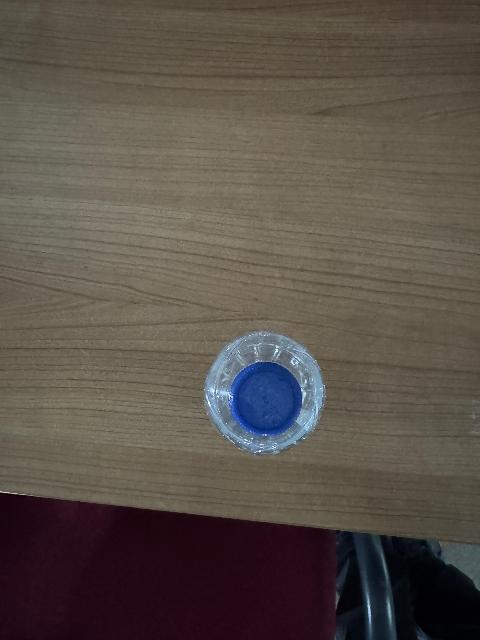Plastik: (200, 329, 331, 456)
